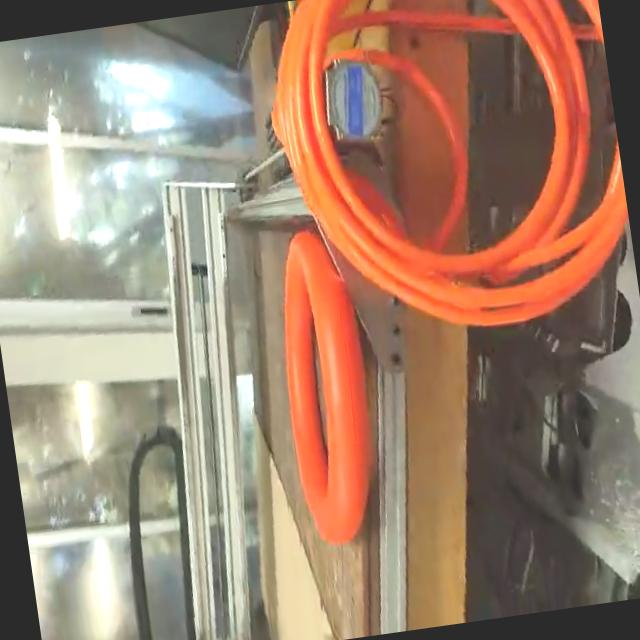note: (264, 217, 391, 550)
